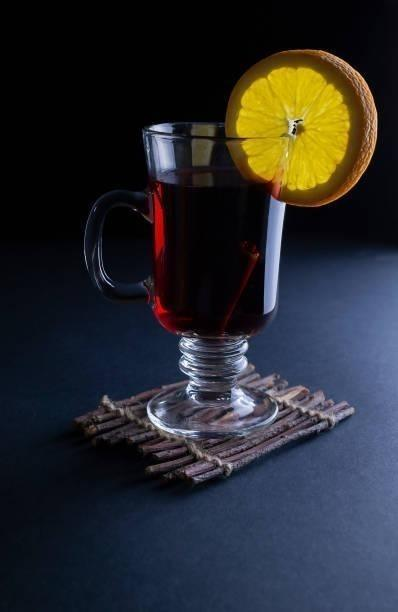glass-mug: (81, 115, 299, 442)
